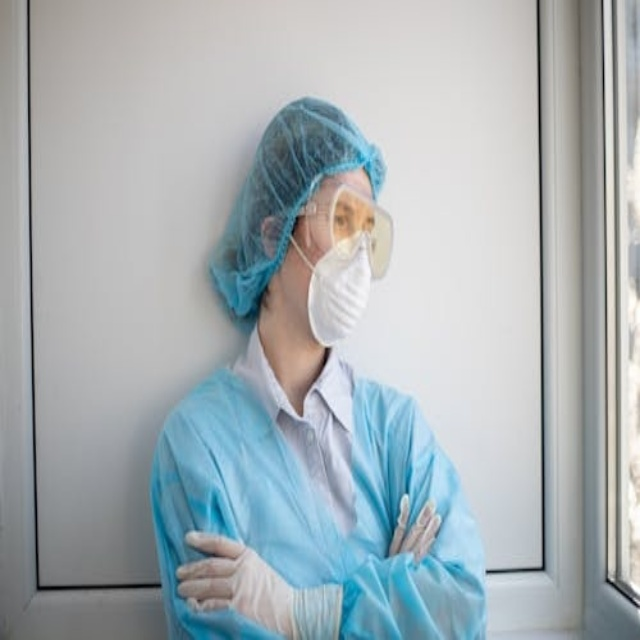Gafas: (278, 184, 394, 282)
Guantes: (177, 529, 338, 640), (388, 492, 441, 565)
Mascara: (306, 227, 374, 348)
